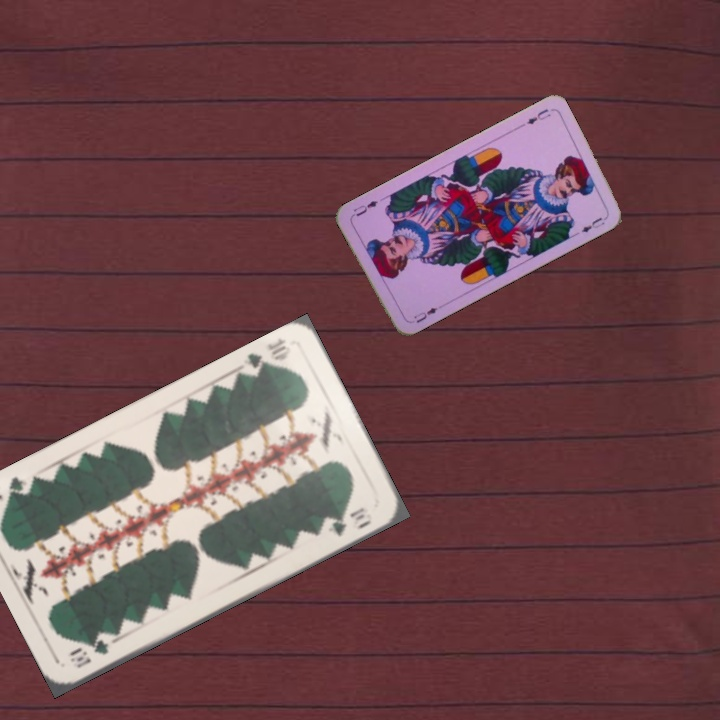EU: (410, 303, 440, 326), (522, 105, 553, 127)
G10: (239, 335, 293, 379), (66, 635, 111, 671)
